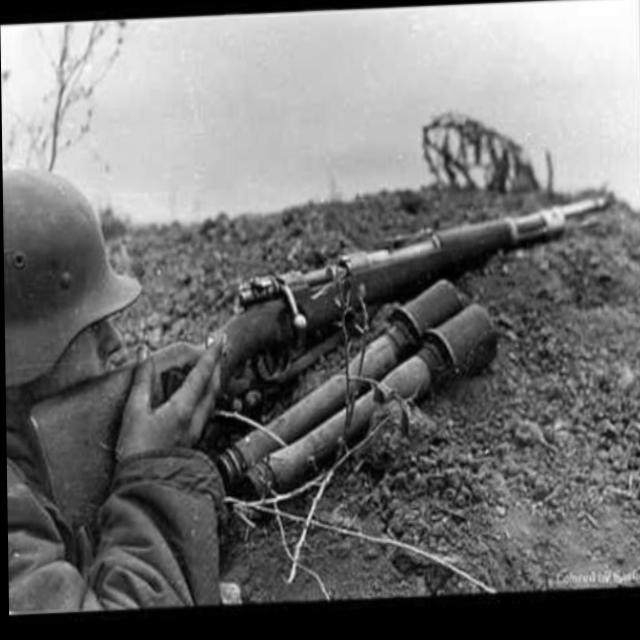other: (2, 164, 221, 618)
